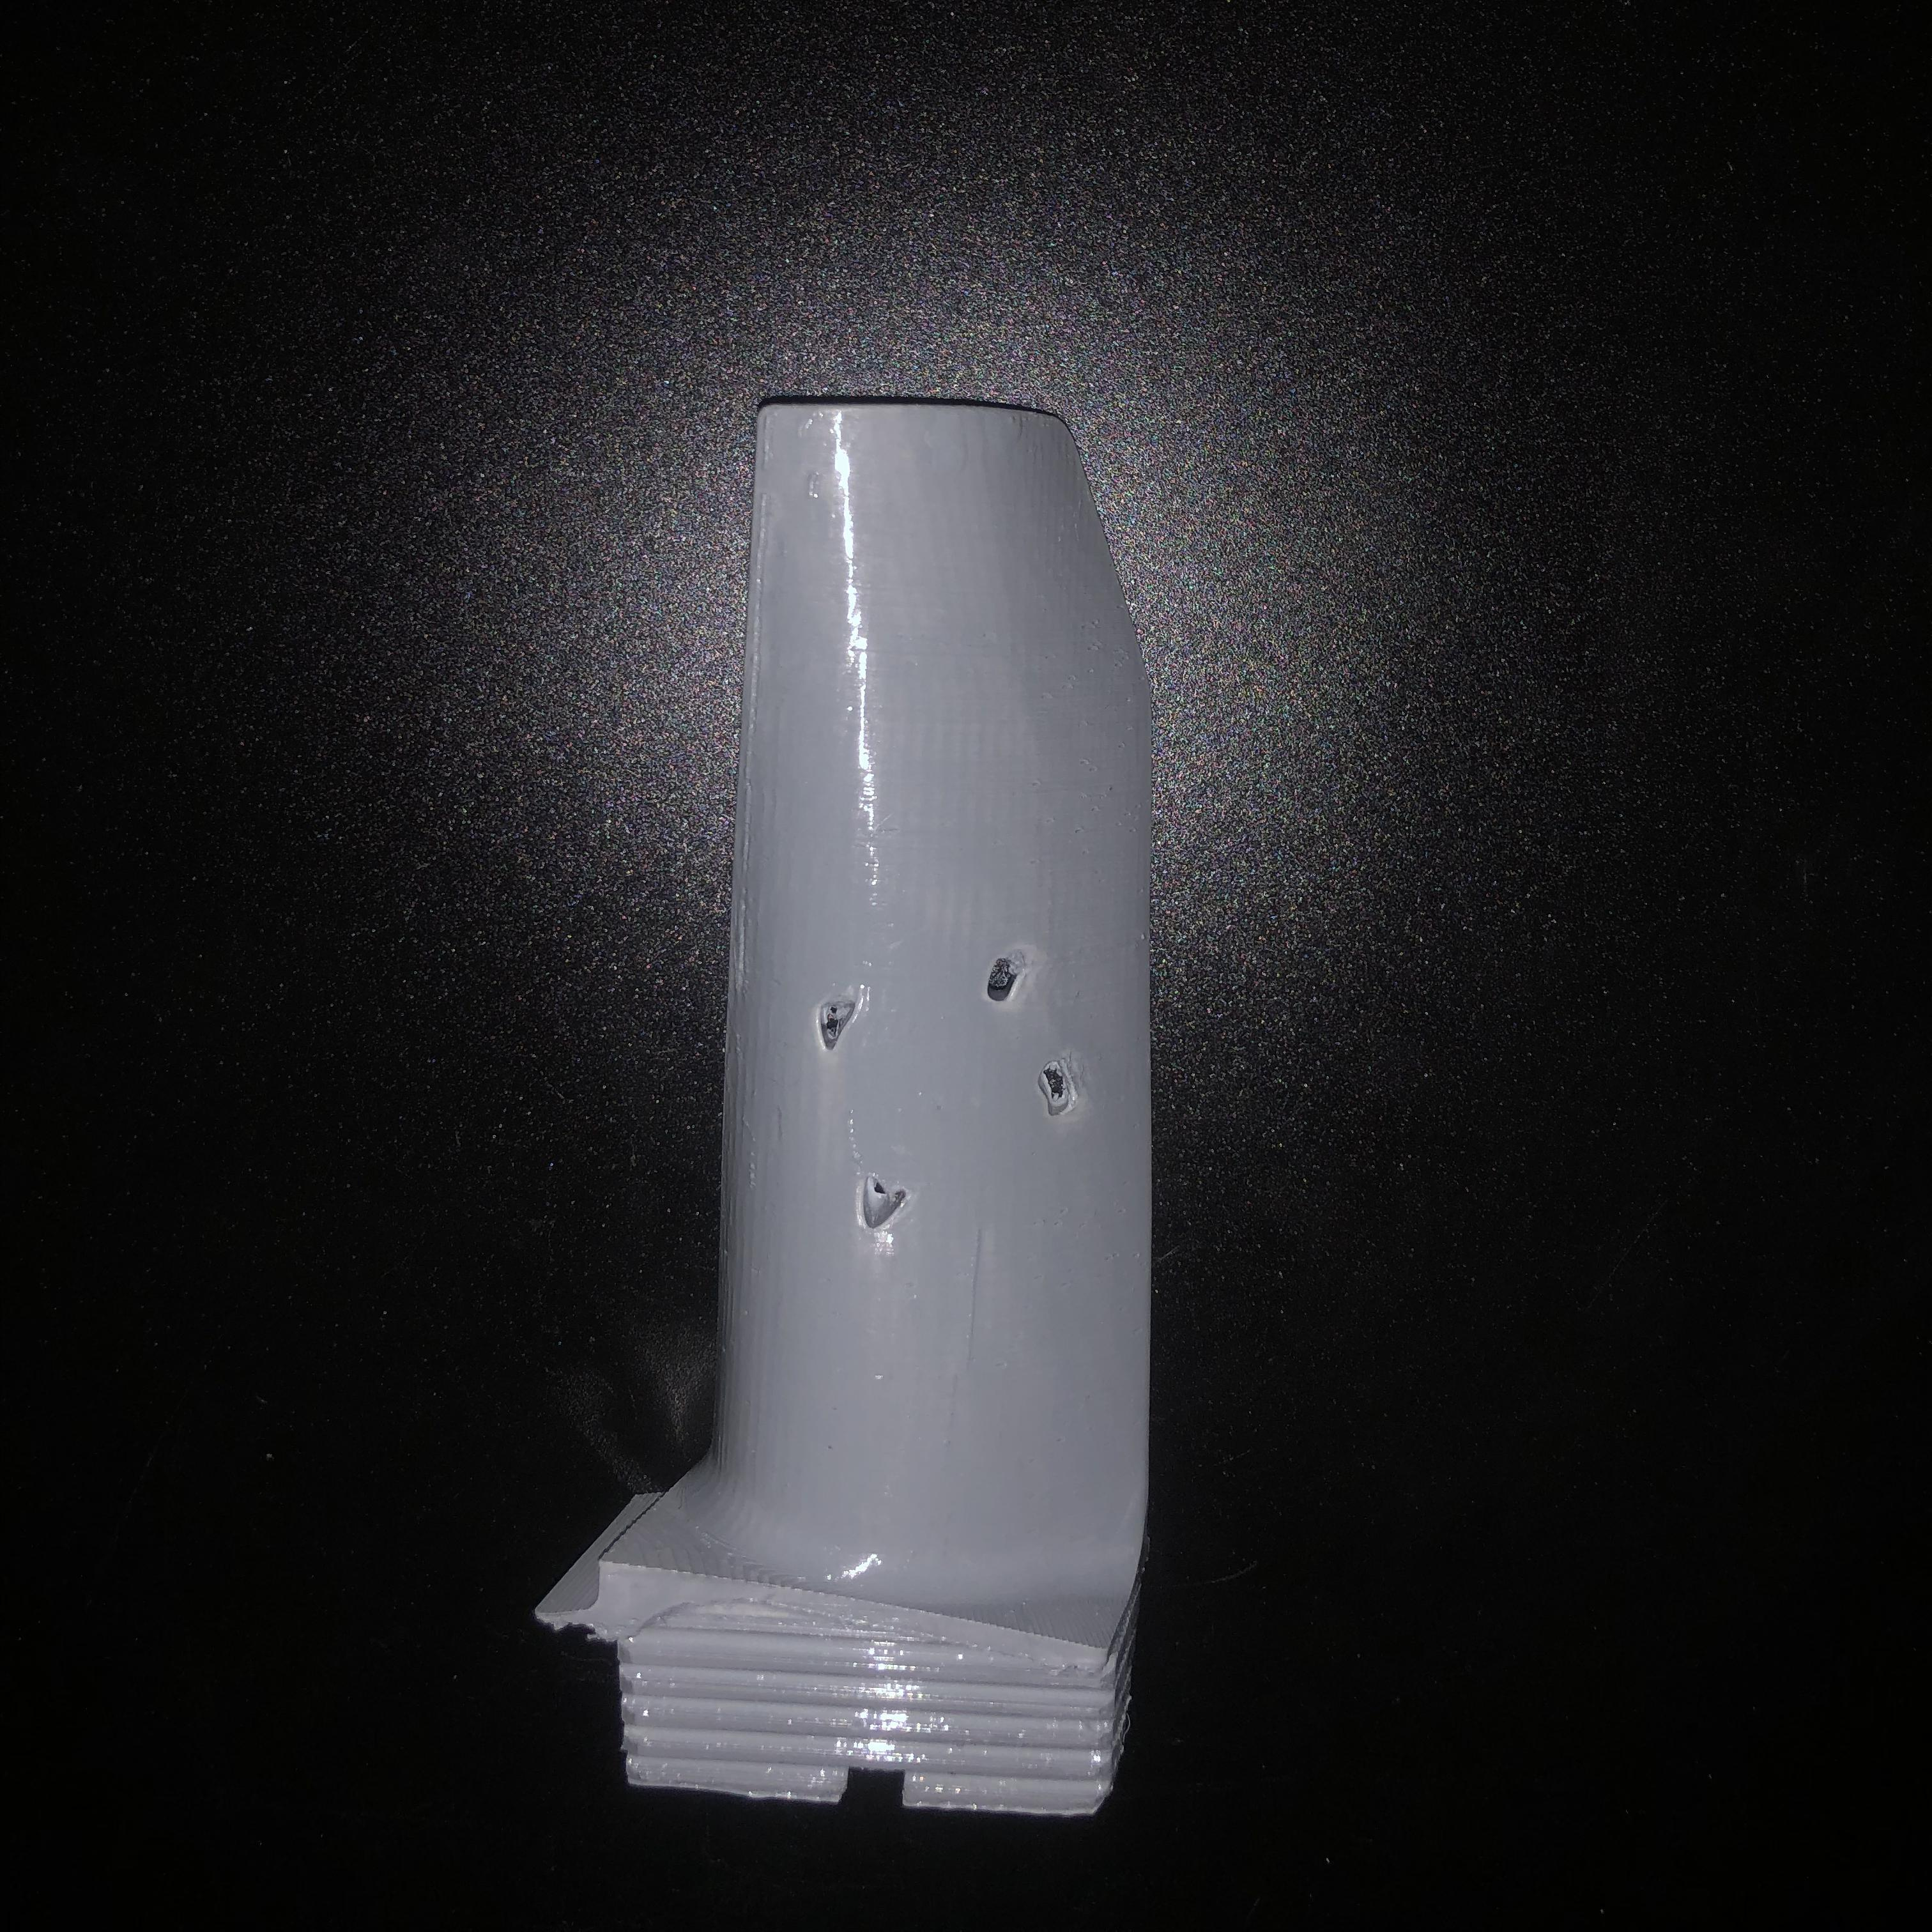breakdown: (816, 945, 1090, 1261)
